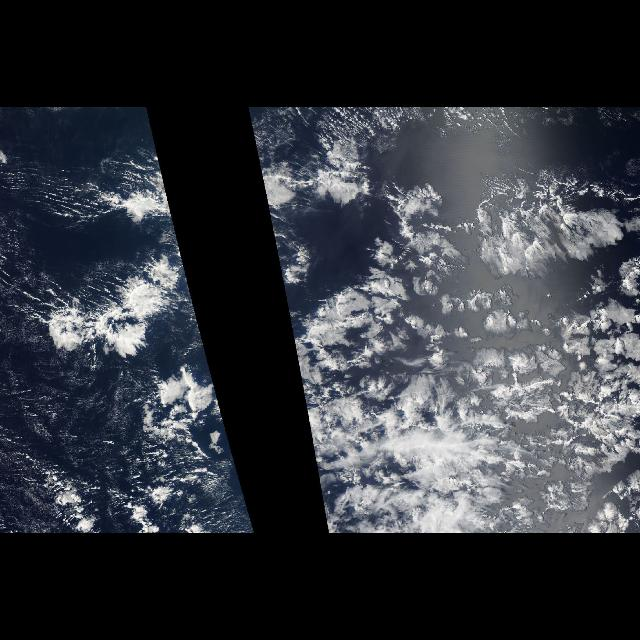Flower: (333, 142, 635, 530)
Sugar: (0, 354, 136, 482)
